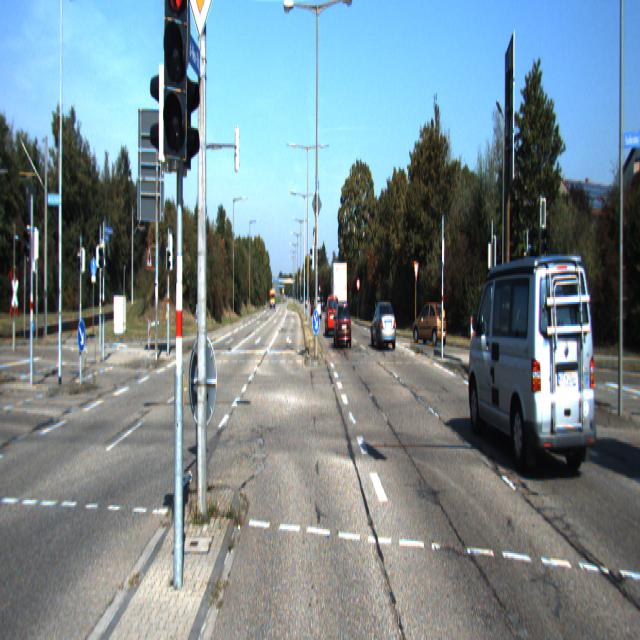Car: (467, 240, 599, 484), (413, 300, 447, 346), (371, 300, 396, 352), (330, 259, 348, 321), (334, 302, 352, 350), (324, 293, 340, 338)
